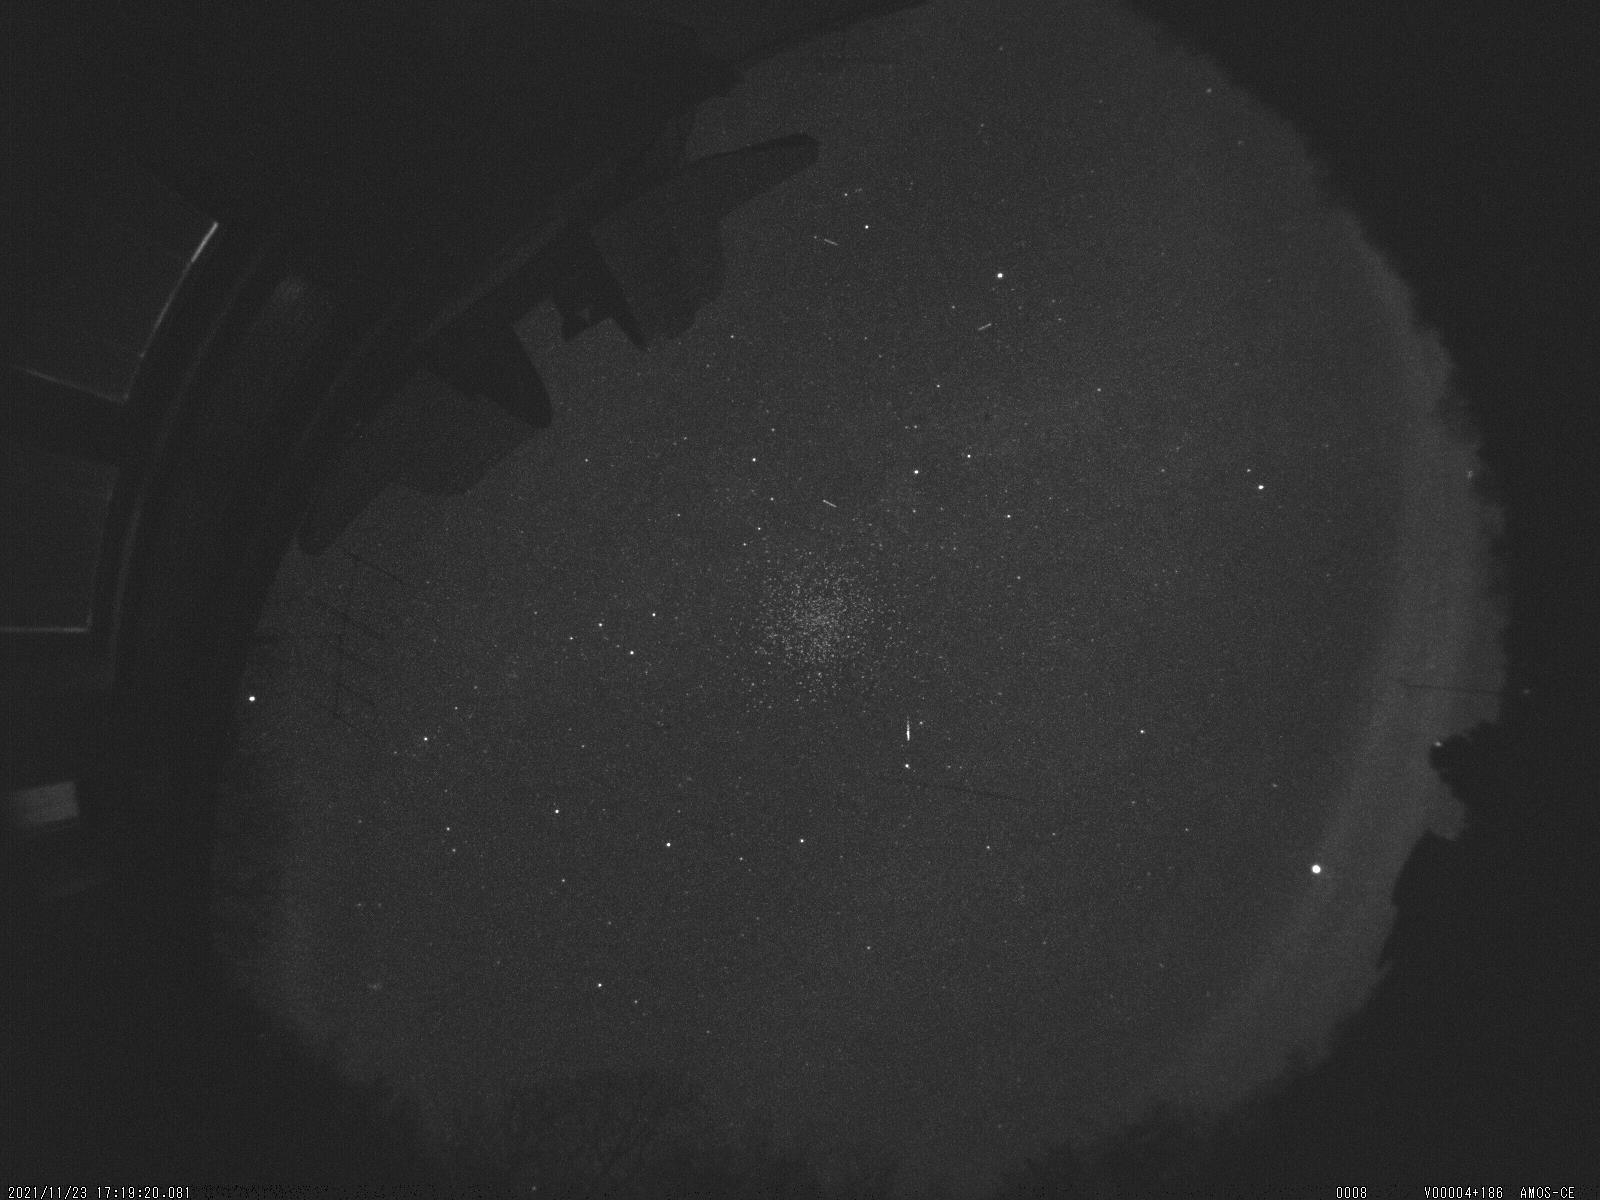Meteor: (902, 705, 921, 757)
